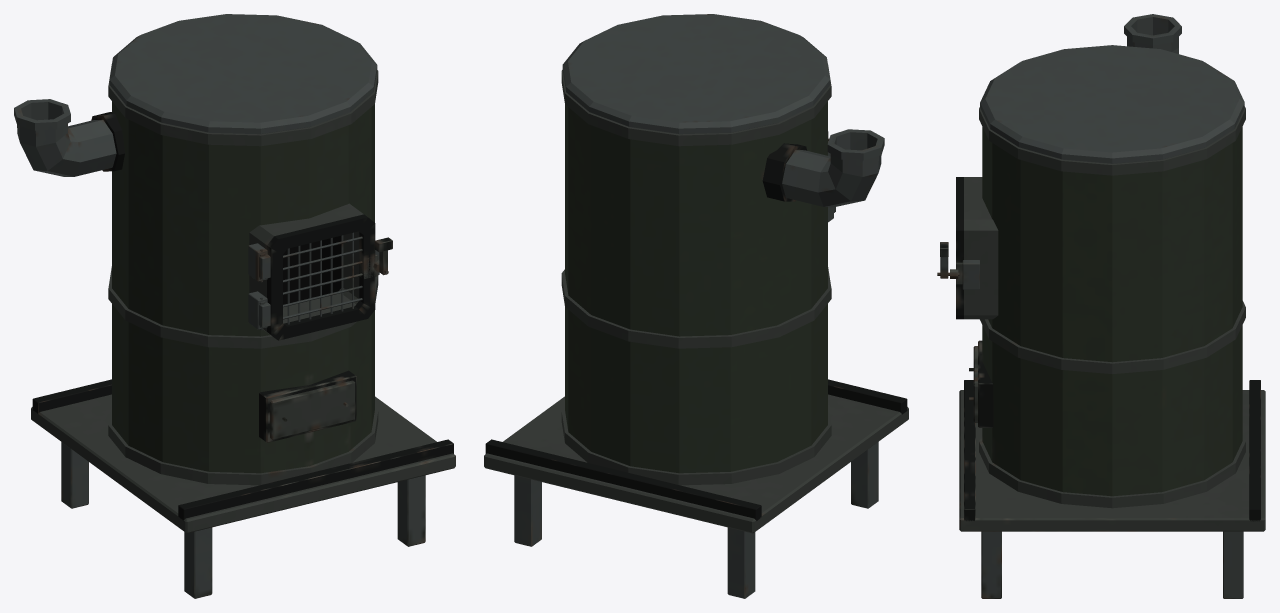
The model's file is barrel_stove.glb.
3 views of the same model, side by side, from view 1: azimuth 30°, elevation 25°; view 2: azimuth 150°, elevation 25°; view 3: azimuth 270°, elevation 25° (orthographic).
Parts seen in each view (by area): view 1: BarrelStoveBody, BarrelStoveDoor; view 2: BarrelStoveBody; view 3: BarrelStoveBody, BarrelStoveDoor.
Part boxes in pixels (x1=…): BarrelStoveBody: x1=14, y1=14, x2=455, y2=598; BarrelStoveDoor: x1=259, y1=214, x2=379, y2=340; BarrelStoveBody: x1=484, y1=14, x2=908, y2=598; BarrelStoveBody: x1=959, y1=14, x2=1265, y2=598; BarrelStoveDoor: x1=950, y1=177, x2=963, y2=319.
Size of what is drawn, in the model's own units: 0.668 by 0.85 by 0.568.
1 material, 1 textured.
